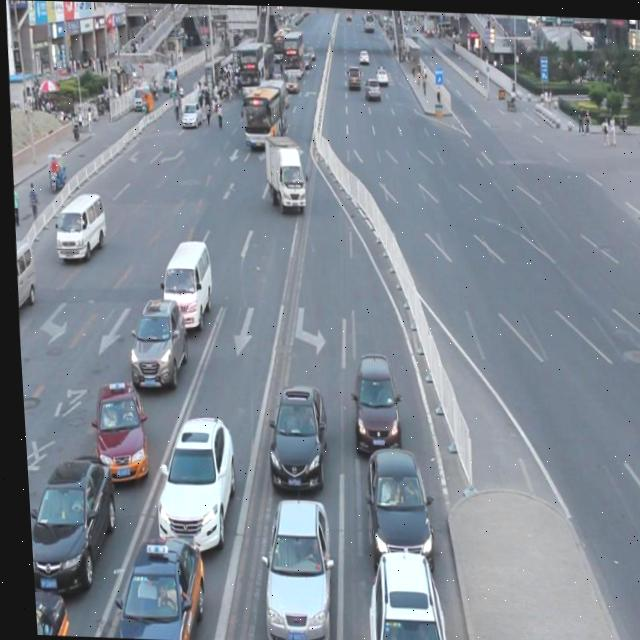bus: (260, 133, 303, 208)
car: (21, 445, 116, 595), (144, 406, 234, 550), (249, 486, 329, 640), (94, 525, 201, 640), (355, 438, 429, 565), (355, 540, 444, 640), (257, 376, 325, 489), (84, 376, 145, 482), (120, 289, 185, 387), (345, 348, 397, 456), (27, 582, 63, 635)
truck: (154, 235, 212, 330), (50, 190, 106, 260), (11, 236, 34, 316)
